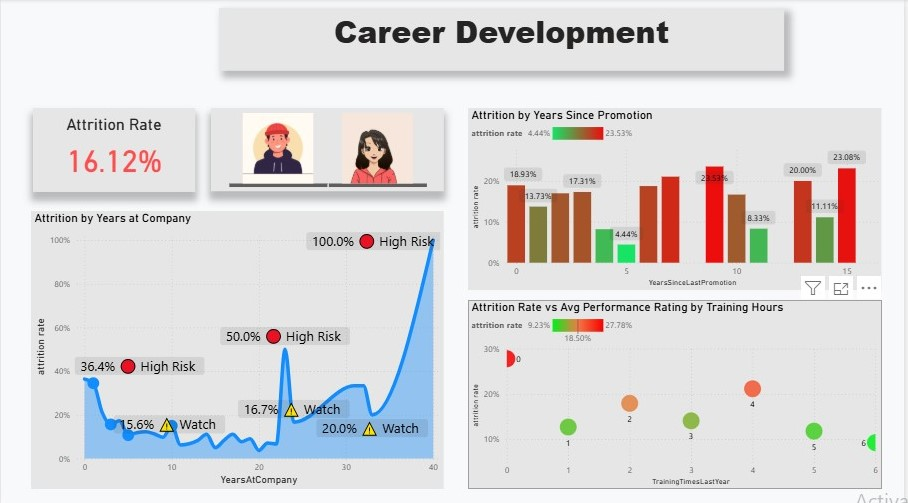

This screenshot's page, from the dashboard's own definition file:
{"tool":"powerbi","page":{"name":"Career Development","canvas":[1280,720],"ordinal":4},"visuals":[{"type":"textbox","box":[309,12.8,800.8,89.3],"z":0},{"type":"card","title":"Attrition Rate","fields":{"Values":["Measured.attrition rate"]},"box":[45.4,154.5,229.6,119.1],"z":1000},{"type":"slicer","fields":{"Values":["WA_Fn-UseC_-HR-Employee-Attrition.ImageURL"]},"box":[298.2,154.1,329.6,118.4],"z":2000},{"type":"lineChart","title":"Attrition by Years at Company","fields":{"Y":["Measured.attrition rate"],"Category":["WA_Fn-UseC_-HR-Employee-Attrition.YearsAtCompany"]},"box":[42.8,301.1,585.1,393.8],"z":3000},{"type":"columnChart","title":"Attrition by Years Since Promotion","fields":{"Category":["WA_Fn-UseC_-HR-Employee-Attrition.YearsSinceLastPromotion"],"Y":["Measured.attrition rate"]},"box":[662.1,154.1,586.5,258.3],"z":4000},{"type":"scatterChart","title":"Attrition Rate vs Avg Performance Rating by Training Hours","fields":{"X":["WA_Fn-UseC_-HR-Employee-Attrition.TrainingTimesLastYear"],"Y":["Measured.attrition rate"],"Size":["Avg(WA_Fn-UseC_-HR-Employee-Attrition.PerformanceRating)"]},"box":[662.1,426.7,586.5,268.3],"z":5000}]}

Visuals, with their boxes in screenshot pixels (x1, y1, x2, y2), scaled from the page's 1280x720 canvas onto the 908x503 screenshot:
textbox: pyautogui.locateOnScreen(219, 9, 787, 71)
"Attrition Rate" card: pyautogui.locateOnScreen(32, 108, 195, 191)
slicer - WA_Fn-UseC_-HR-Employee-Attrition.ImageURL: pyautogui.locateOnScreen(212, 108, 445, 190)
"Attrition by Years at Company" lineChart: pyautogui.locateOnScreen(30, 210, 445, 485)
"Attrition by Years Since Promotion" columnChart: pyautogui.locateOnScreen(470, 108, 886, 288)
"Attrition Rate vs Avg Performance Rating by Training Hours" scatterChart: pyautogui.locateOnScreen(470, 298, 886, 486)
